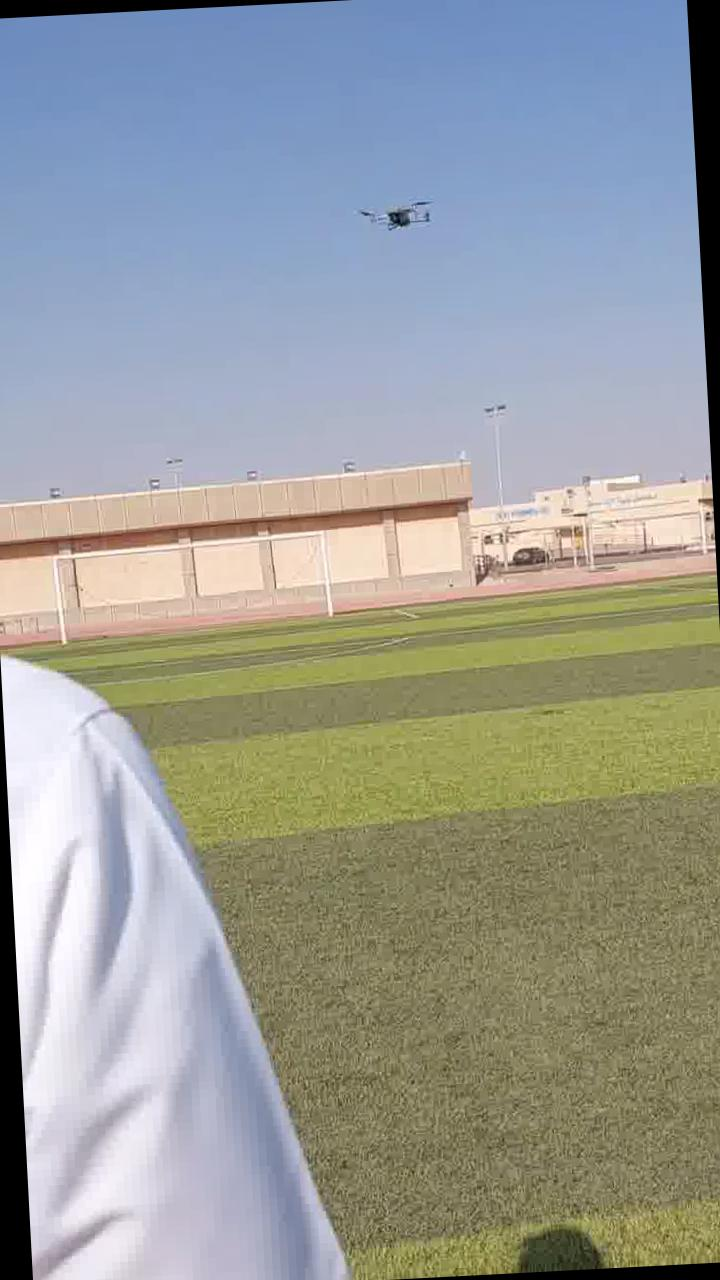drone: (349, 194, 446, 240)
